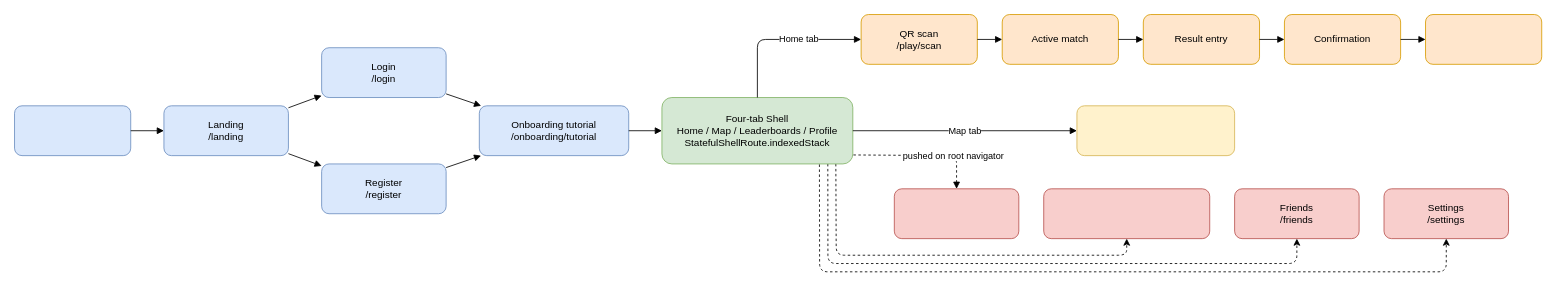
Some shapes in this 1556 by 293 pixel diagram are drawn without their labels. Here are the shapes that lost their labels. From the top down, the box of each, then its label:
(1425, 14, 1542, 64): Summary ELO delta
(14, 105, 131, 156): Splash /
(1076, 105, 1235, 156): Facility detail /play/facility/:id
(893, 188, 1019, 239): Arena Assistant /chatbot
(1043, 188, 1210, 239): Tournaments /tournaments (+create, detail, bracket)
